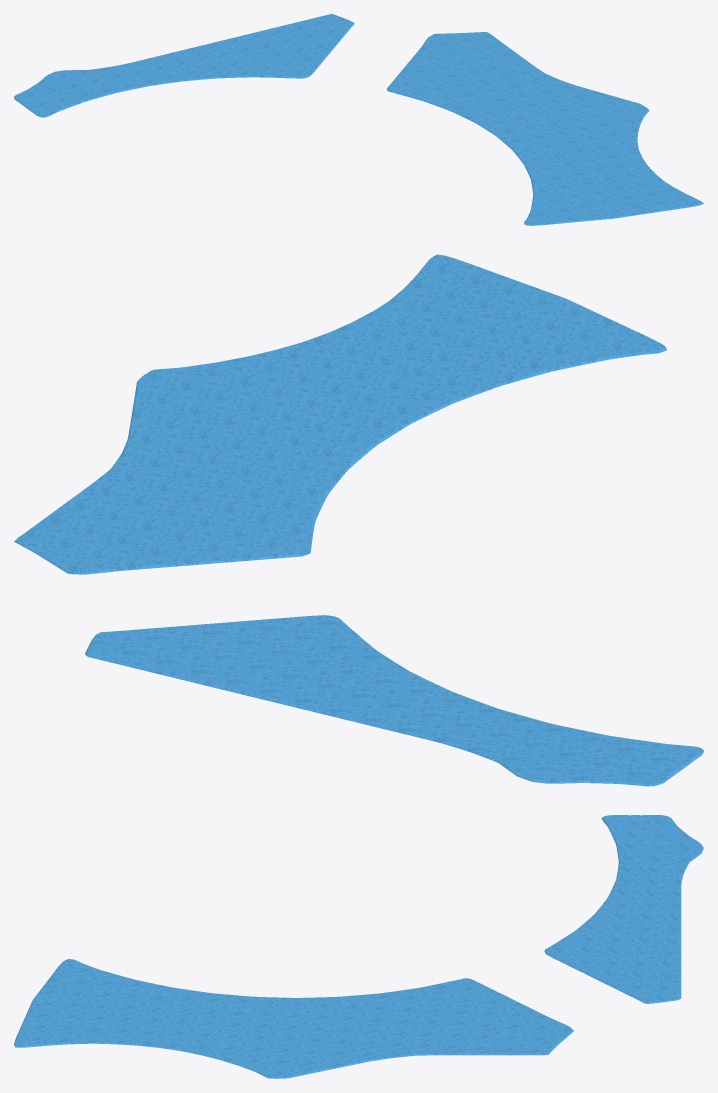
File: obj_ground03.gltf
3 views of the same model, one above another, from view 1: azimuth 30°, elevation 25°; view 2: azimuth 150°, elevation 25°; view 3: azimuth 270°, elevation 25° (orthographic). The views are drawn at different scales.
Visible parts, largest first — view 1: obj_ground03; view 2: obj_ground03; view 3: obj_ground03.
Boxes of the visible parts, x1,y1,x2,y2 form: obj_ground03: [14, 14, 703, 225]; obj_ground03: [14, 254, 703, 786]; obj_ground03: [14, 815, 703, 1078].
Size of what is drawn, in the model's own units: 51.94 by 0.1229 by 57.54.
Materials: 1 (1 with a texture image).
